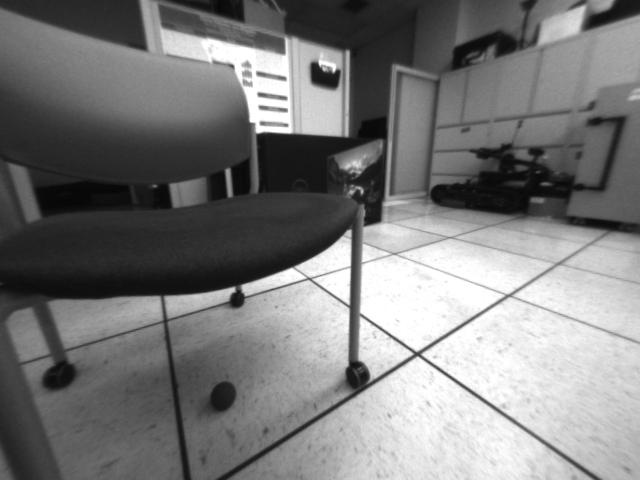dogtoy: (204, 375, 242, 415)
